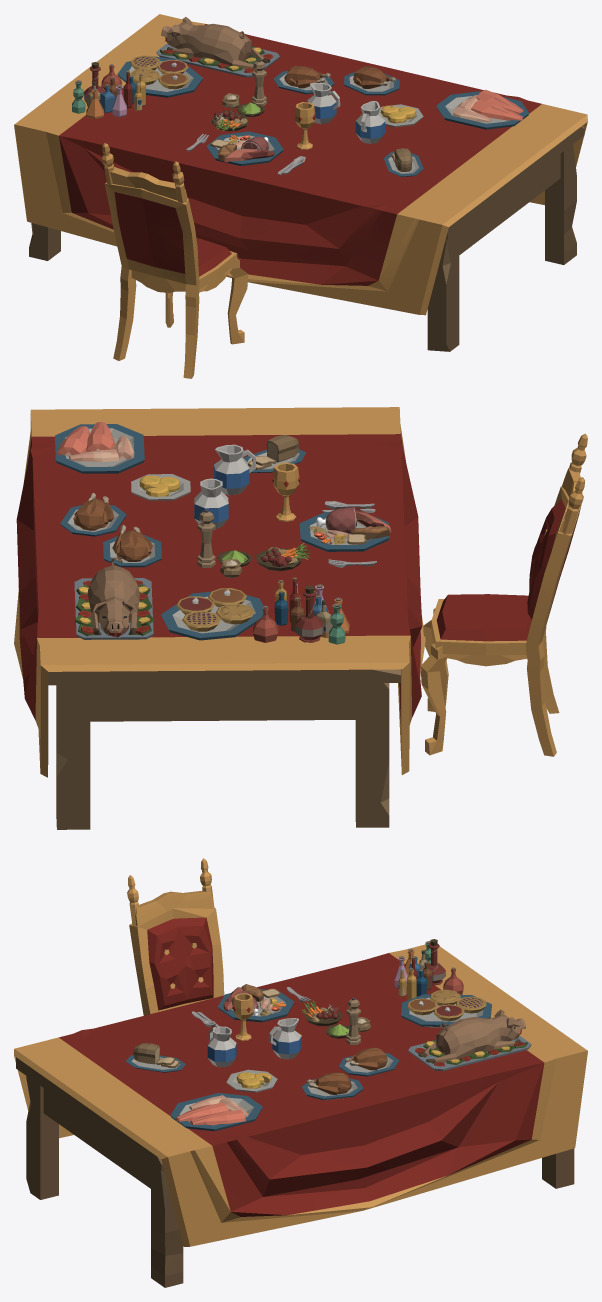
The model's file is God_table_02.fbx.
3 views of the same model, one above another, from view 1: azimuth 30°, elevation 25°; view 2: azimuth 150°, elevation 25°; view 3: azimuth 270°, elevation 25° (orthographic). The views are drawn at different scales.
Parts seen in each view (by area): view 1: SM_Prop_Table_Wood_09.001, SM_Prop_Chair_Fancy_03.001; view 2: SM_Prop_Table_Wood_09.001, SM_Prop_Chair_Fancy_03.001; view 3: SM_Prop_Table_Wood_09.001, SM_Prop_Chair_Fancy_03.001.
Part boxes in pixels (<box>): SM_Prop_Table_Wood_09.001: <box>14,14,587,351</box>; SM_Prop_Chair_Fancy_03.001: <box>101,143,248,378</box>; SM_Prop_Table_Wood_09.001: <box>14,407,425,829</box>; SM_Prop_Chair_Fancy_03.001: <box>420,433,587,756</box>; SM_Prop_Table_Wood_09.001: <box>14,939,587,1287</box>; SM_Prop_Chair_Fancy_03.001: <box>127,858,224,1015</box>.
Size of the model in its own units: 725 by 334 by 771.
